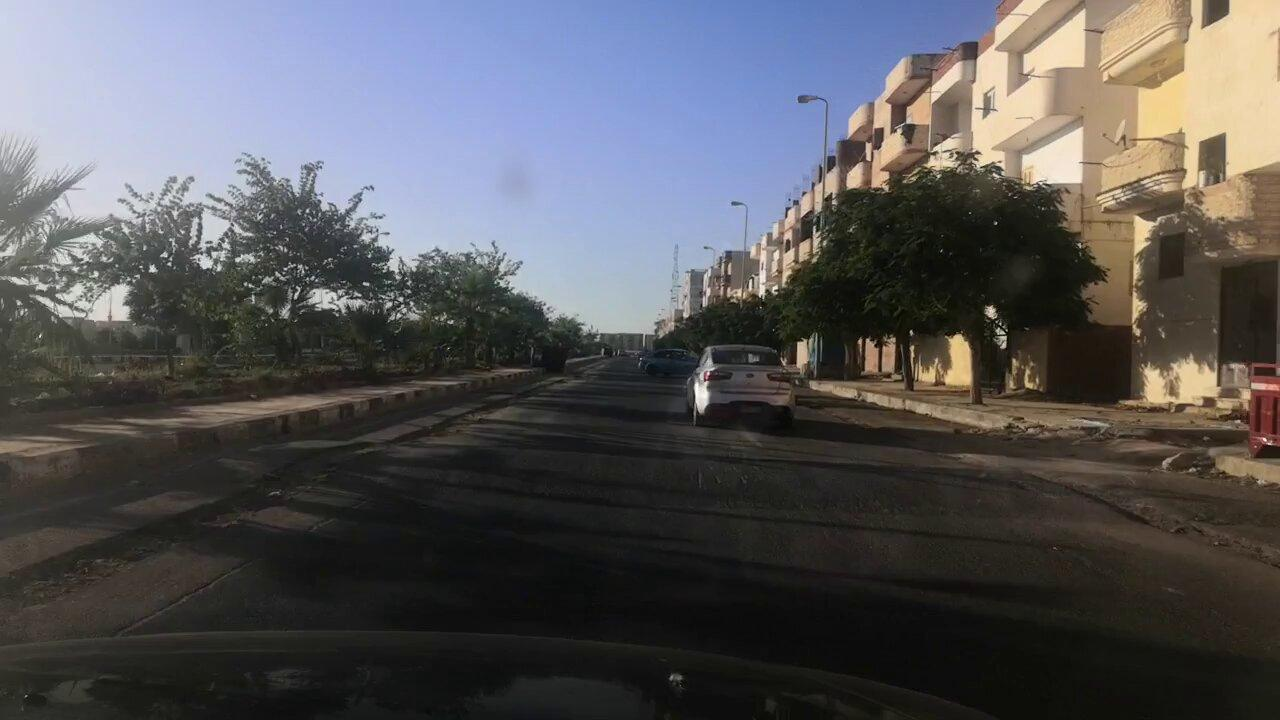Pothole: (7, 402, 495, 628)
